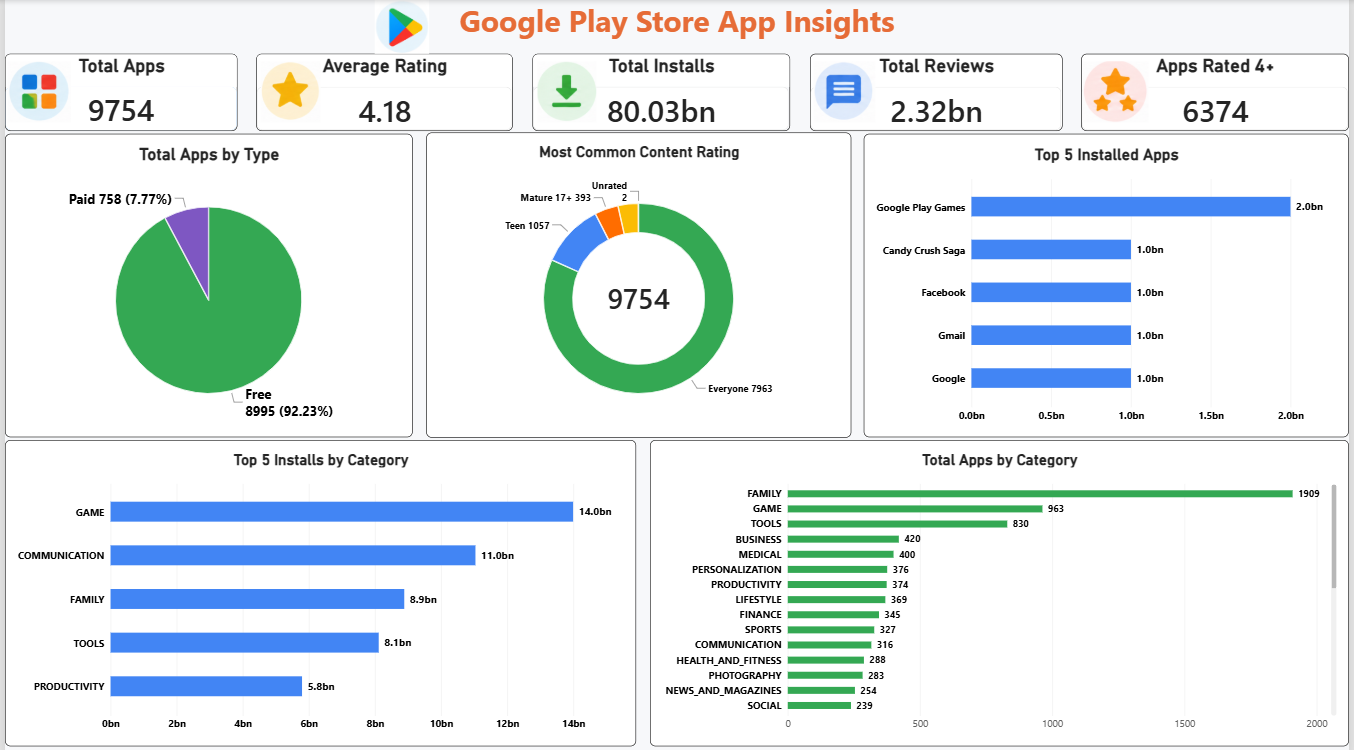

The dashboard page shown, as its layout file describes it:
{"tool":"powerbi","page":{"name":"Executive Overview","canvas":[1920,1080],"ordinal":0},"visuals":[{"type":"cardVisual","title":"Total Apps","fields":{"Data":["Apps.Total Apps"]},"box":[0,76.8,332.1,110.7],"z":0},{"type":"cardVisual","title":"Average Rating","fields":{"Data":["Apps.Average Rating"]},"box":[359.8,76.8,366.1,110.7],"z":1000},{"type":"cardVisual","title":"Total Installs","fields":{"Data":["Apps.Total Installs"]},"box":[753.6,76.8,367.9,110.7],"z":2000},{"type":"cardVisual","title":"Total Reviews","fields":{"Data":["Apps.Total Reviews"]},"box":[1149.1,76.8,360.7,110.7],"z":3000},{"type":"pieChart","title":"Total Apps by Type","fields":{"Category":["Apps.Type"],"Y":["Apps.Total Apps"]},"box":[0,191.1,582.1,433.9],"z":4000},{"type":"clusteredBarChart","title":"Total Apps by Category","fields":{"Category":["Apps.Category"],"Y":["Apps.Total Apps"]},"box":[921.4,628.6,998.2,437.5],"z":5000},{"type":"clusteredBarChart","title":"Top 5 Installed Apps","fields":{"Category":["Apps.App"],"Y":["Apps.Top 5 Installs"]},"box":[1226.8,191.1,692.9,433.9],"z":6000},{"type":"donutChart","title":"Most Common Content Rating","fields":{"Category":["Apps.Content Rating"],"Y":["Apps.Total Apps"]},"box":[601.8,189.3,607.1,435.7],"z":7000},{"type":"cardVisual","title":"Apps Rated 4+","fields":{"Data":["Apps.Apps Rated 4+"]},"box":[1537.5,76.8,382.1,110.7],"z":8000},{"type":"clusteredBarChart","title":"Top 5 Installs by Category","fields":{"Category":["Apps.Category"],"Y":["Apps.Total Installs"]},"box":[0,628.6,901.8,437.5],"z":9000},{"type":"textbox","box":[0,0,1919.7,76.8],"z":10000},{"type":"image","box":[0,0,191.1,71.4],"z":11000},{"type":"image","box":[0,87.5,98.2,87.5],"z":12000},{"type":"image","box":[753.6,87.5,98.2,87.5],"z":13000},{"type":"image","box":[1150,87.5,98.2,87.5],"z":14000},{"type":"image","box":[1537.5,87.5,98.2,87.5],"z":15000},{"type":"image","box":[358.9,87.5,98.2,87.5],"z":16000},{"type":"slicer","fields":{"Values":["Apps.Category"]},"box":[821.4,1.8,251.8,71.4],"z":17000},{"type":"slicer","fields":{"Values":["Apps.Content Rating"]},"box":[1369.6,3.6,266.1,67.9],"z":18000},{"type":"slicer","fields":{"Values":["Apps.Type"]},"box":[1085.7,0,262.5,71.4],"z":19000},{"type":"slicer","fields":{"Values":["Apps.Last Updated.Variation.Date Hierarchy.Year"]},"box":[1653.6,3.6,266.1,67.9],"z":20000}]}

Visuals, with their boxes in screenshot pixels (x1, y1, x2, y2), scaled from the page's 1920x1080 canvas onto the 1354x750 screenshot:
"Total Apps" cardVisual: left=0, top=53, right=234, bottom=130
"Average Rating" cardVisual: left=254, top=53, right=512, bottom=130
"Total Installs" cardVisual: left=531, top=53, right=791, bottom=130
"Total Reviews" cardVisual: left=810, top=53, right=1065, bottom=130
"Total Apps by Type" pieChart: left=0, top=133, right=411, bottom=434
"Total Apps by Category" clusteredBarChart: left=650, top=437, right=1353, bottom=740
"Top 5 Installed Apps" clusteredBarChart: left=865, top=133, right=1353, bottom=434
"Most Common Content Rating" donutChart: left=424, top=131, right=853, bottom=434
"Apps Rated 4+" cardVisual: left=1084, top=53, right=1353, bottom=130
"Top 5 Installs by Category" clusteredBarChart: left=0, top=437, right=636, bottom=740
textbox: left=0, top=0, right=1353, bottom=53
image: left=0, top=0, right=135, bottom=50
image: left=0, top=61, right=69, bottom=122
image: left=531, top=61, right=601, bottom=122
image: left=811, top=61, right=880, bottom=122
image: left=1084, top=61, right=1154, bottom=122
image: left=253, top=61, right=322, bottom=122
slicer - Apps.Category: left=579, top=1, right=757, bottom=51
slicer - Apps.Content Rating: left=966, top=2, right=1154, bottom=50
slicer - Apps.Type: left=766, top=0, right=951, bottom=50
slicer - Apps.Last Updated.Variation.Date Hierarchy.Year: left=1166, top=2, right=1353, bottom=50
